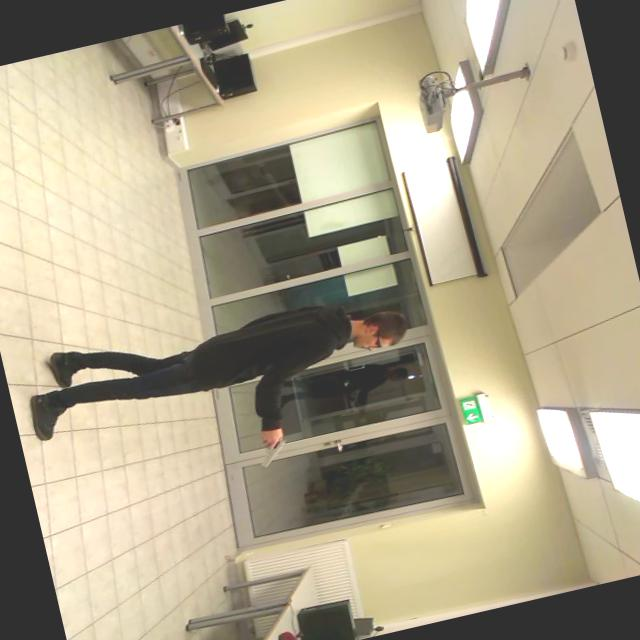handgun: (242, 428, 300, 478)
